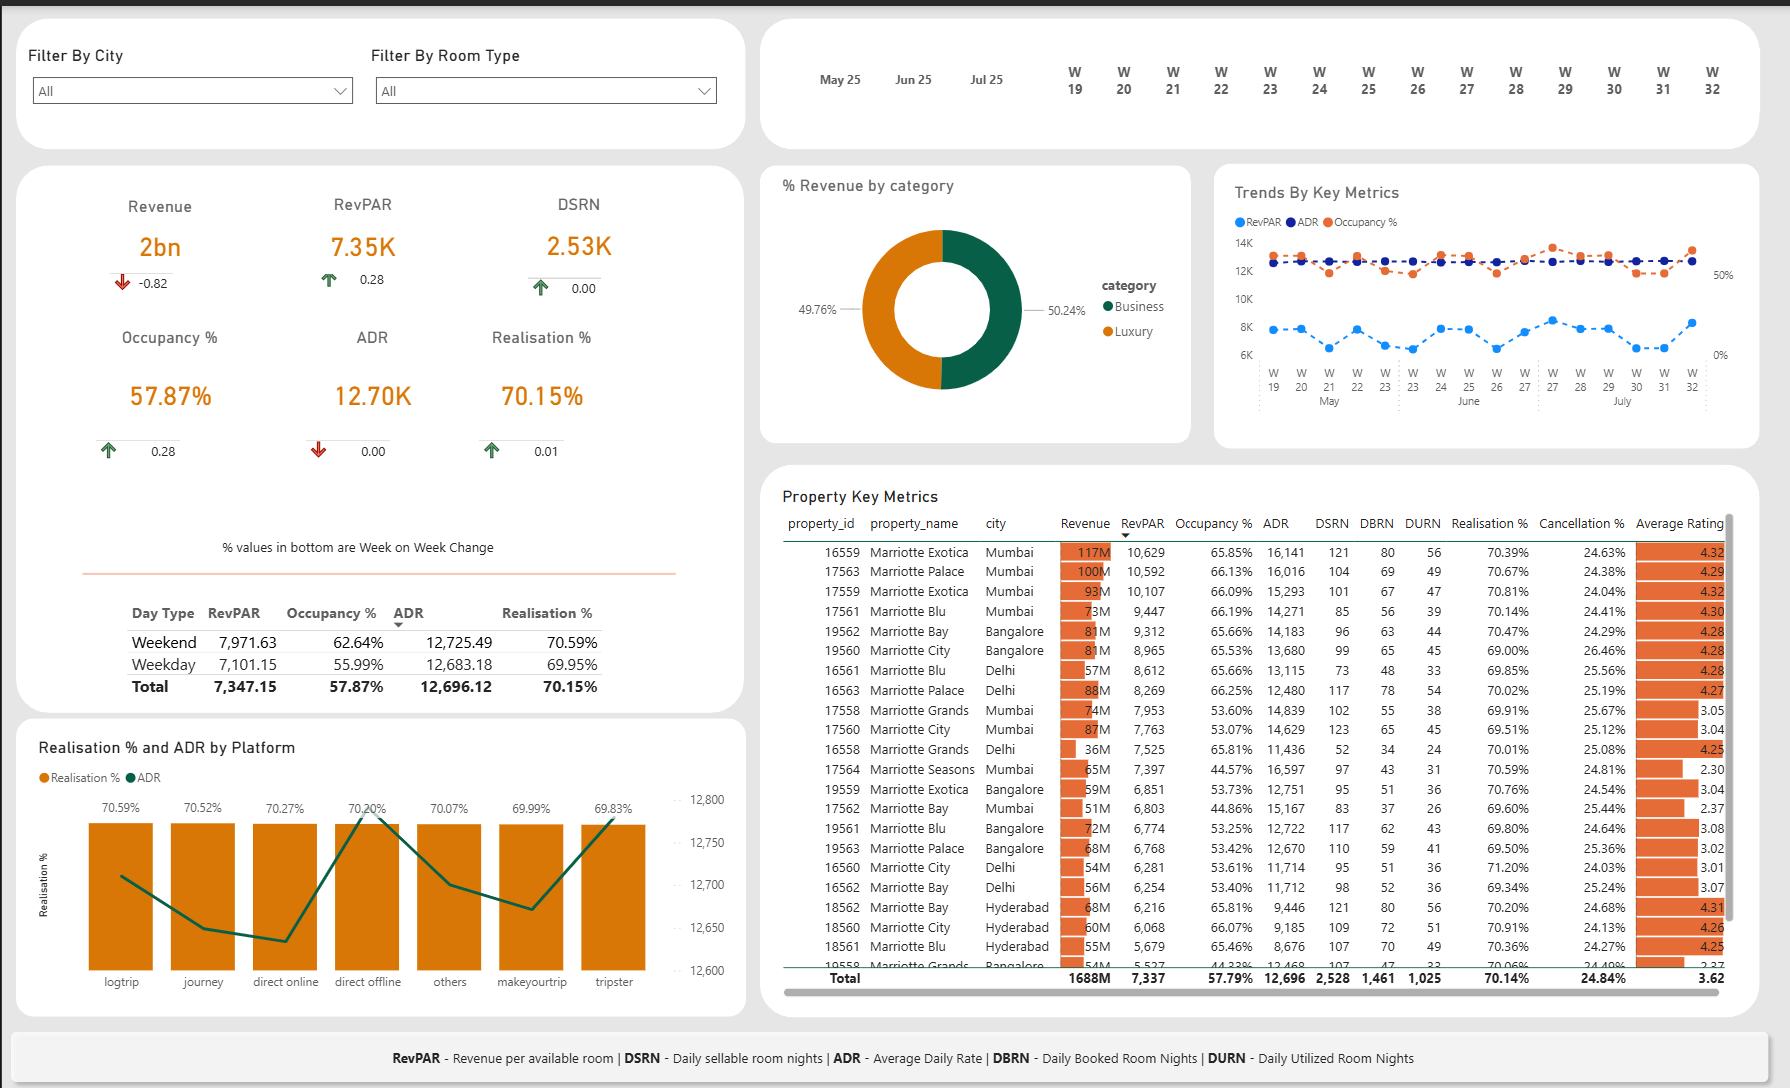

The page's visual inventory and layout, read from the dashboard file:
{"tool":"powerbi","page":{"name":"Page 1","canvas":[1825,1100],"ordinal":0},"visuals":[{"type":"shape","box":[14,722.4,739.8,302.6],"z":0},{"type":"shape","box":[767.8,464.6,1014.3,560.4],"z":1000},{"type":"shape","box":[1228.9,159.6,553.3,289.1],"z":2000},{"type":"shape","box":[767.8,161.4,438,282],"z":3000},{"type":"shape","box":[14.2,12.4,739.5,133],"z":4000},{"type":"shape","box":[767.8,12.4,1014.3,133],"z":5000},{"type":"slicer","title":"Filter By Room Type","fields":{"Values":["dim_date.mmm yy"]},"box":[787.4,35.5,270.5,78.3],"z":5000,"group":"g2"},{"type":"tableEx","fields":{"Values":["key_measures.Revenue WoW change %"]},"box":[102.9,243.9,114.9,54.2],"z":5000,"group":"g1"},{"type":"shape","box":[14.2,161.4,737.7,555.1],"z":6000},{"type":"card","title":"Revenue","fields":{"Values":["key_measures.Revenue"]},"box":[49.7,192.7,221.1,77.5],"z":6000,"group":"g1"},{"type":"slicer","title":"Filter By Room Type","fields":{"Values":["dim_date.week no"]},"box":[1038,42,745,65],"z":7000,"group":"g2"},{"type":"tableEx","fields":{"Values":["key_measures.Revpar WoW change %"]},"box":[312.9,225,134.6,67.4],"z":7000,"group":"g1"},{"type":"tableEx","title":"Property Key Metrics","fields":{"Values":["dim_hotels.property_id","dim_hotels.property_name","dim_hotels.city","key_measures.Revenue","key_measures.RevPAR","key_measures.Occupancy %","key_measures.ADR","key_measures.DSRN","key_measures.DBRN","key_measures.DURN","key_measures.Realisation %","key_measures.Cancellation %"]},"box":[785.6,487.7,975.3,521.4],"z":7000},{"type":"slicer","title":"Filter By City","fields":{"Values":["dim_hotels.city"]},"box":[21.3,40.8,344,72.7],"z":8000},{"type":"card","title":"RevPAR","fields":{"Values":["key_measures.RevPAR"]},"box":[255.8,191.5,220.6,79.9],"z":8000,"group":"g1"},{"type":"slicer","title":"Filter By Room Type","fields":{"Values":["dim_rooms.room_class"]},"box":[368.9,40.8,365.3,78],"z":9000},{"type":"tableEx","fields":{"Values":["key_measures.DSRN WoW change %"]},"box":[526.3,233.7,148,74.4],"z":9000,"group":"g1"},{"type":"donutChart","title":"% Revenue by category","fields":{"Category":["dim_hotels.category"],"Y":["key_measures.Occupancy %"]},"box":[785.6,172,407.9,250],"z":10000},{"type":"tableEx","fields":{"Values":["key_measures.Occupancy WoW change %"]},"box":[88.4,399.8,166.6,98.4],"z":10000,"group":"g1"},{"type":"lineChart","title":"Trends By Key Metrics","fields":{"Category":["dim_date.mmm yy.Variation.Date Hierarchy.Month","dim_date.week no"],"Y":["key_measures.RevPAR","key_measures.ADR"],"Y2":["key_measures.Occupancy %"]},"box":[1244.9,179.1,516,242.9],"z":11000},{"type":"tableEx","fields":{"Values":["key_measures.ADR WoW change %"]},"box":[301.3,399.8,161.4,88],"z":11000,"group":"g1"},{"type":"tableEx","fields":{"Values":["key_measures.Realisation WoW change %"]},"box":[476.2,398.9,149.3,81.3],"z":12000,"group":"g1"},{"type":"lineStackedColumnComboChart","title":"Realisation % and ADR by Platform","fields":{"Category":["fact_bookings.booking_platform"],"Y":["key_measures.Realisation %"],"Y2":["key_measures.ADR"]},"box":[31.5,741.6,704.9,265.9],"z":12000},{"type":"card","title":"Occupancy %","fields":{"Values":["key_measures.Occupancy %"]},"box":[60.9,326.9,219.8,112.3],"z":13000,"group":"g1"},{"type":"tableEx","fields":{"Values":["dim_date.day type","key_measures.Rev Par","key_measures.Occupancy %","key_measures.ADR","key_measures.Realisation %"]},"box":[120.6,599.4,505.4,117],"z":13000},{"type":"group","id":"g1","title":"Group 1","box":[49.7,191.5,641.9,306.8],"z":14000},{"type":"card","title":"Realisation %","fields":{"Values":["key_measures.Realisation %"]},"box":[437,326.9,221.6,112.3],"z":14000,"group":"g1"},{"type":"textbox","box":[218.1,533.8,328.1,35.5],"z":15000},{"type":"shape","box":[81.6,569.2,601.2,12.4],"z":16000},{"type":"group","id":"g2","title":"Group 2","box":[787.4,35.5,994.8,78],"z":17000},{"type":"card","title":"DSRN","fields":{"Values":["key_measures.DSRN"]},"box":[476.2,191.6,215.4,79.4],"z":17000,"group":"g1"},{"type":"shape","box":[0,1030.3,1799.9,69.2],"z":18000},{"type":"textbox","box":[367.7,1051.2,1089.6,35],"z":19000},{"type":"card","title":"ADR","fields":{"Values":["key_measures.ADR"]},"box":[277.3,326.9,197.5,112.3],"z":20000,"group":"g1"}]}

Visuals, with their boxes in screenshot pixels (x1, y1, x2, y2), scaled from the page's 1825x1100 canvas onto the 1790x1088 screenshot:
shape: (14, 715, 739, 1014)
shape: (753, 460, 1748, 1014)
shape: (1205, 158, 1748, 444)
shape: (753, 160, 1183, 439)
shape: (14, 12, 739, 144)
shape: (753, 12, 1748, 144)
"Filter By Room Type" slicer: (772, 35, 1038, 113)
tableEx - key_measures.Revenue WoW change %: (101, 241, 214, 295)
shape: (14, 160, 737, 709)
"Revenue" card: (49, 191, 266, 267)
"Filter By Room Type" slicer: (1018, 42, 1749, 106)
tableEx - key_measures.Revpar WoW change %: (307, 223, 439, 289)
"Property Key Metrics" tableEx: (771, 482, 1727, 998)
"Filter By City" slicer: (21, 40, 358, 112)
"RevPAR" card: (251, 189, 467, 268)
"Filter By Room Type" slicer: (362, 40, 720, 118)
tableEx - key_measures.DSRN WoW change %: (516, 231, 661, 305)
"% Revenue by category" donutChart: (771, 170, 1171, 417)
tableEx - key_measures.Occupancy WoW change %: (87, 395, 250, 493)
"Trends By Key Metrics" lineChart: (1221, 177, 1727, 417)
tableEx - key_measures.ADR WoW change %: (296, 395, 454, 482)
tableEx - key_measures.Realisation WoW change %: (467, 395, 614, 475)
"Realisation % and ADR by Platform" lineStackedColumnComboChart: (31, 734, 722, 997)
"Occupancy %" card: (60, 323, 275, 434)
tableEx - dim_date.day type x key_measures.Rev Par: (118, 593, 614, 709)
"Group 1" group: (49, 189, 678, 493)
"Realisation %" card: (429, 323, 646, 434)
textbox: (214, 528, 536, 563)
shape: (80, 563, 670, 575)
"Group 2" group: (772, 35, 1748, 112)
"DSRN" card: (467, 190, 678, 268)
shape: (0, 1019, 1765, 1087)
textbox: (361, 1040, 1429, 1074)
"ADR" card: (272, 323, 466, 434)
